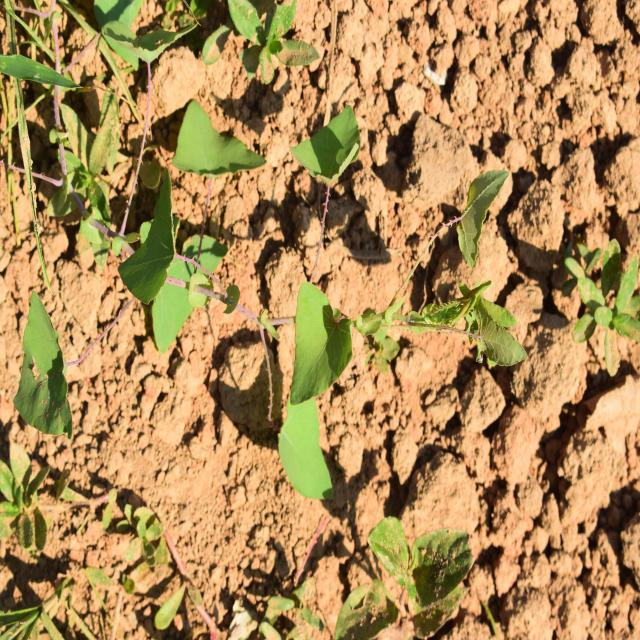Asiatic_Smartweed: (269, 111, 368, 497), (137, 107, 261, 350), (0, 278, 94, 456)
